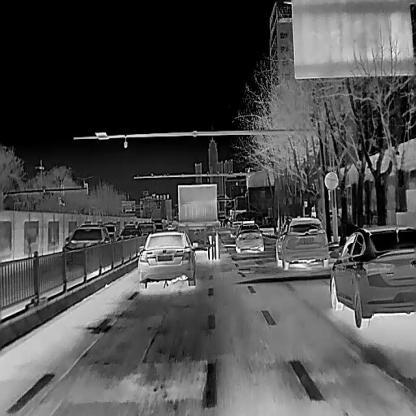car: (329, 227, 415, 328), (137, 229, 196, 289), (176, 183, 220, 259), (274, 215, 328, 269), (62, 225, 111, 255), (234, 222, 264, 252), (115, 223, 141, 243), (138, 221, 155, 232)
